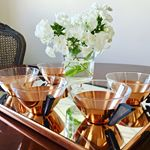cups: (66, 77, 132, 131), (9, 74, 68, 117), (103, 70, 150, 109)
